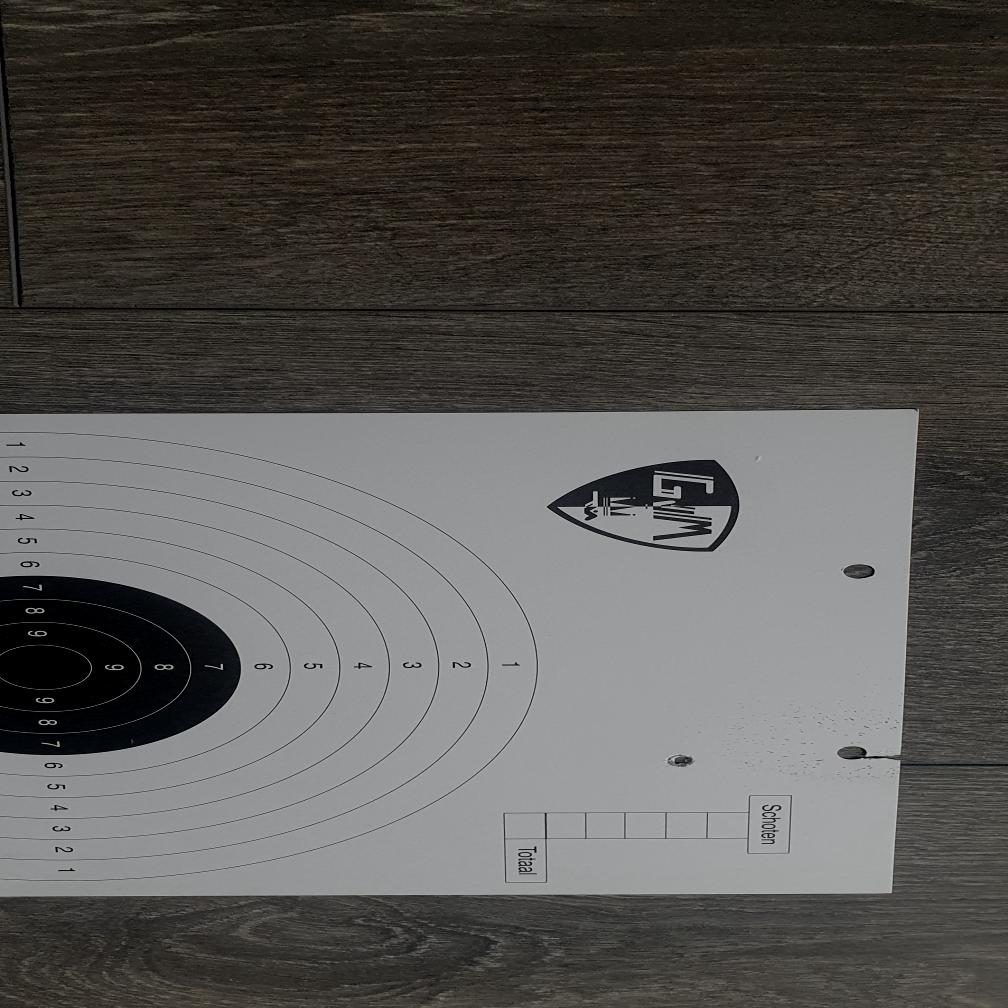0: (665, 753, 695, 770)
Target: (0, 432, 543, 884)
black_contour: (0, 576, 242, 757)
